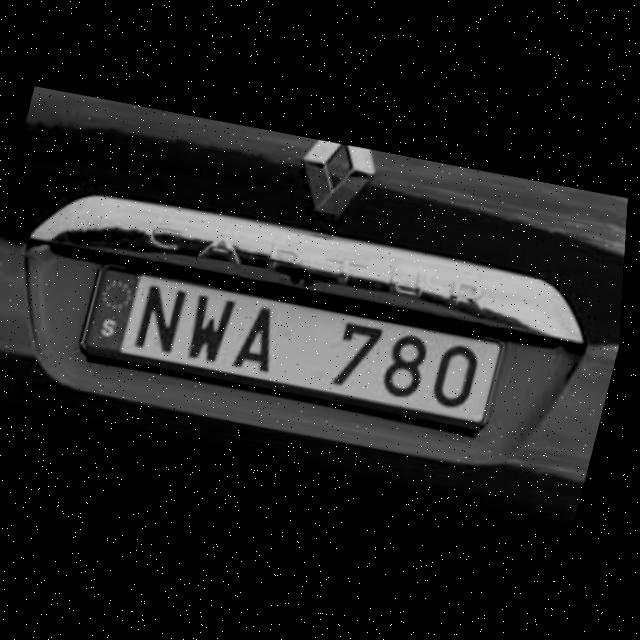license-plates: (81, 266, 502, 432)
